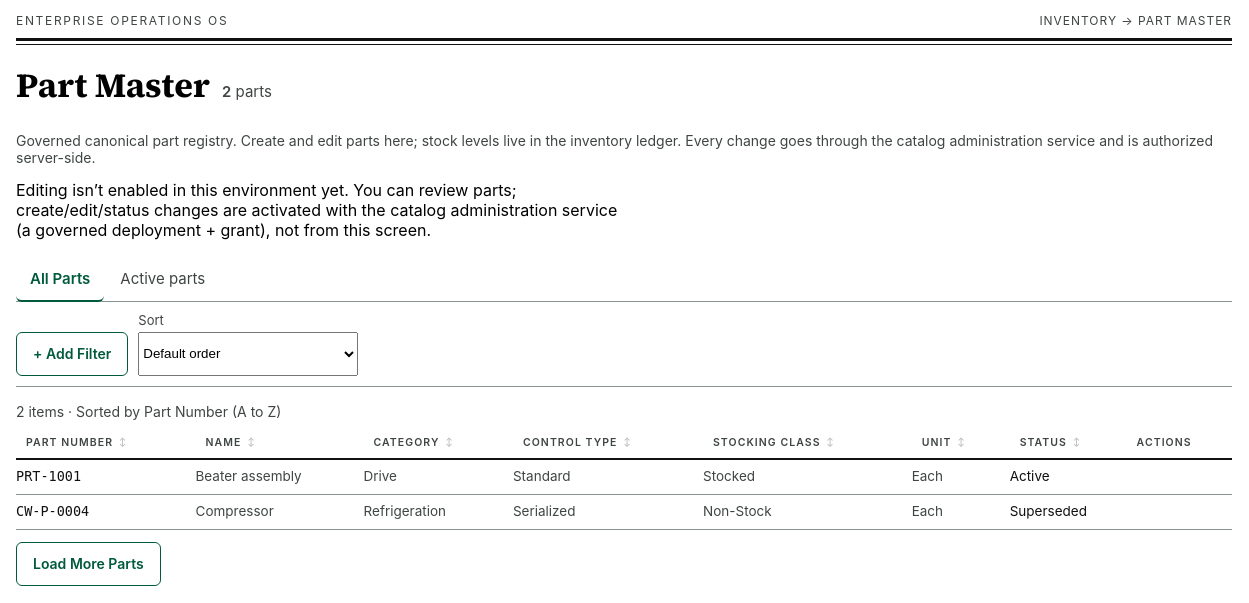
Test: the read is bounded by the canonical runtime › more pages offer a pager that CARRIES the cursor
Expected: the text "PRT-1001" is shown, [16,459,196,494]
Click the button "Load More Parts": (88, 564) [16,542,161,586]
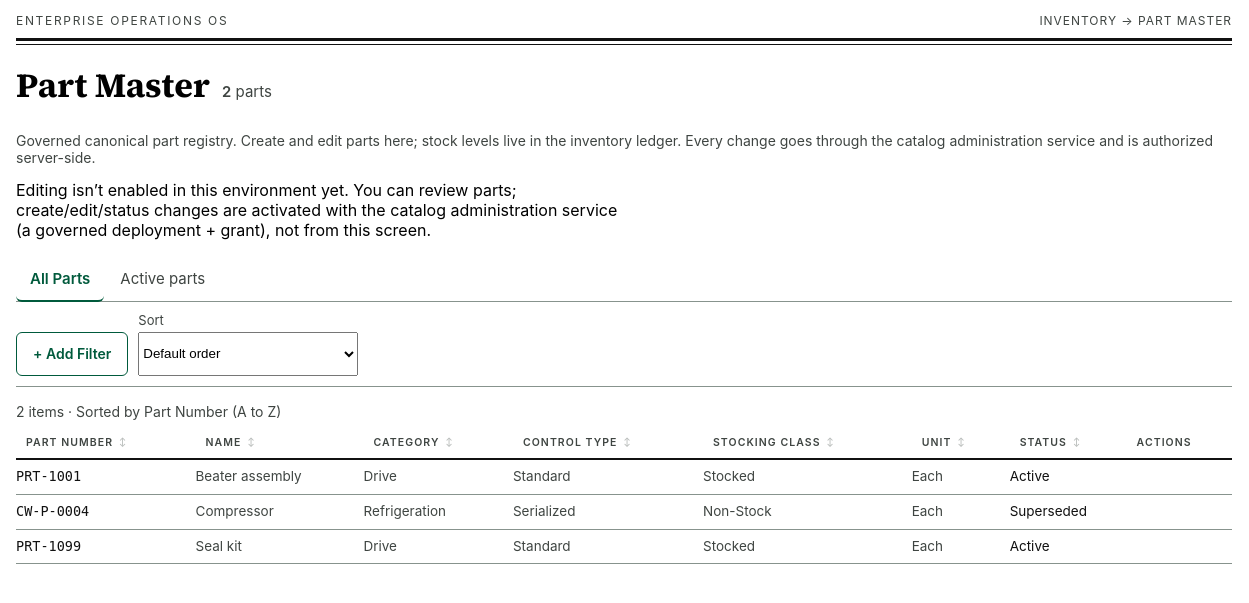
Expected: the text "PRT-1001" is shown, [16,459,196,494]
Now the text "PRT-1099" is shown, box [16,529,196,564]
